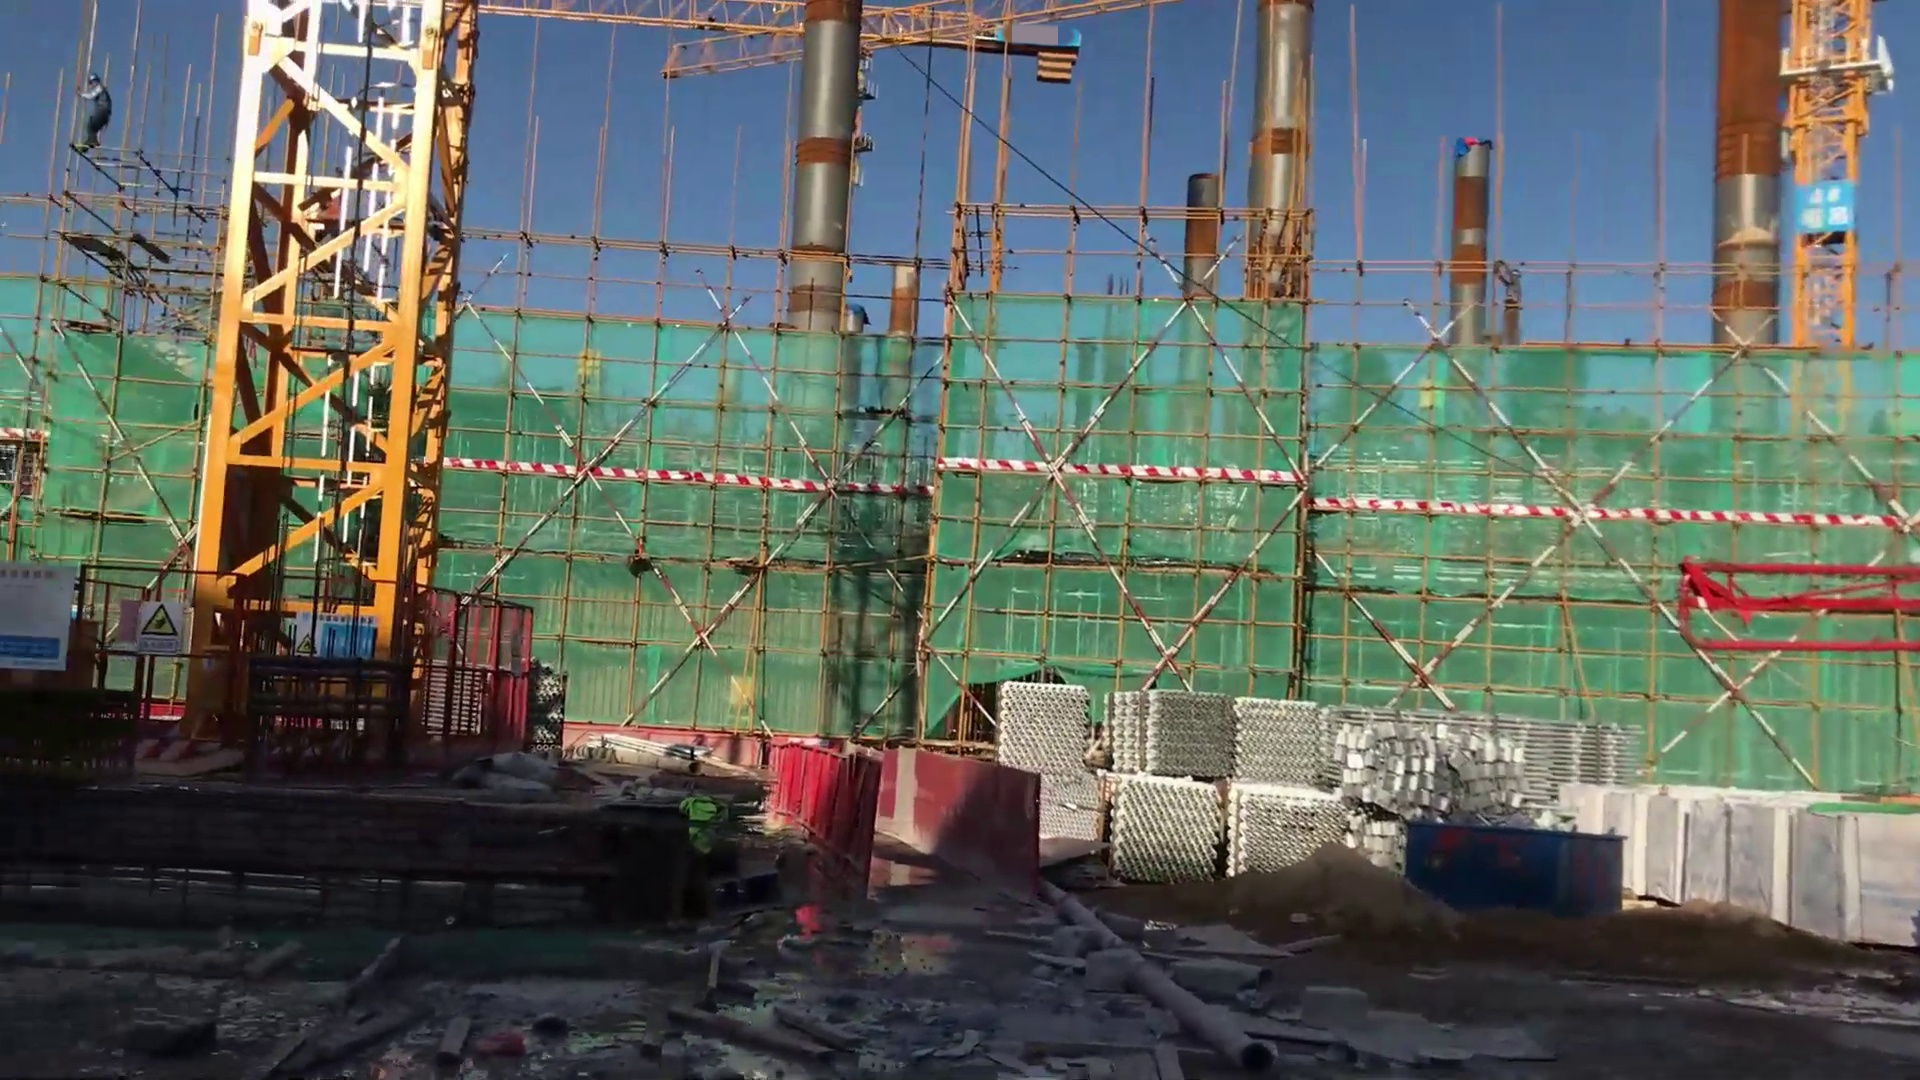fence: (688, 727, 1033, 923), (392, 600, 526, 737)
hopper: (1404, 807, 1619, 930)
scaffold: (985, 682, 1120, 786), (1104, 770, 1218, 880), (1101, 692, 1224, 778), (1229, 794, 1350, 876), (1507, 708, 1607, 804), (1226, 702, 1327, 789)
slogan: (117, 603, 196, 659), (282, 611, 355, 659)
